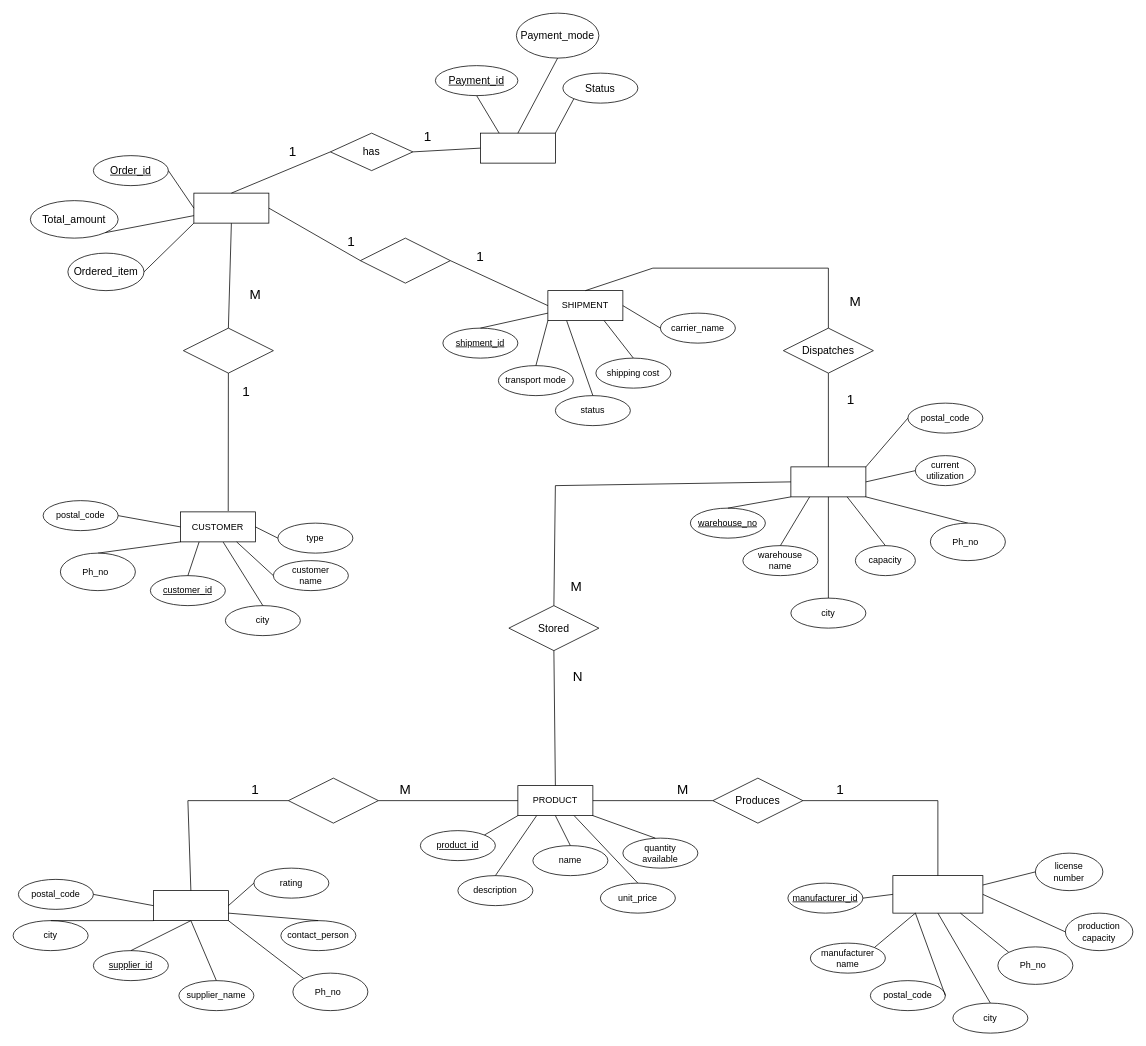
The diagram is 1146 pixels wide and 1046 high, and some of its shapes have lost their labels. The shapes that lost their labels are listed below. From the top down, each one's centre as x and y in pixels, then its label:
(517,147): Payment
(231,207): Orders
(405,260): Shipped
(228,350): Places
(828,481): WAREHOUSE
(333,800): Supplies
(190,905): SUPPLIER
(937,894): MANUFACTURER
